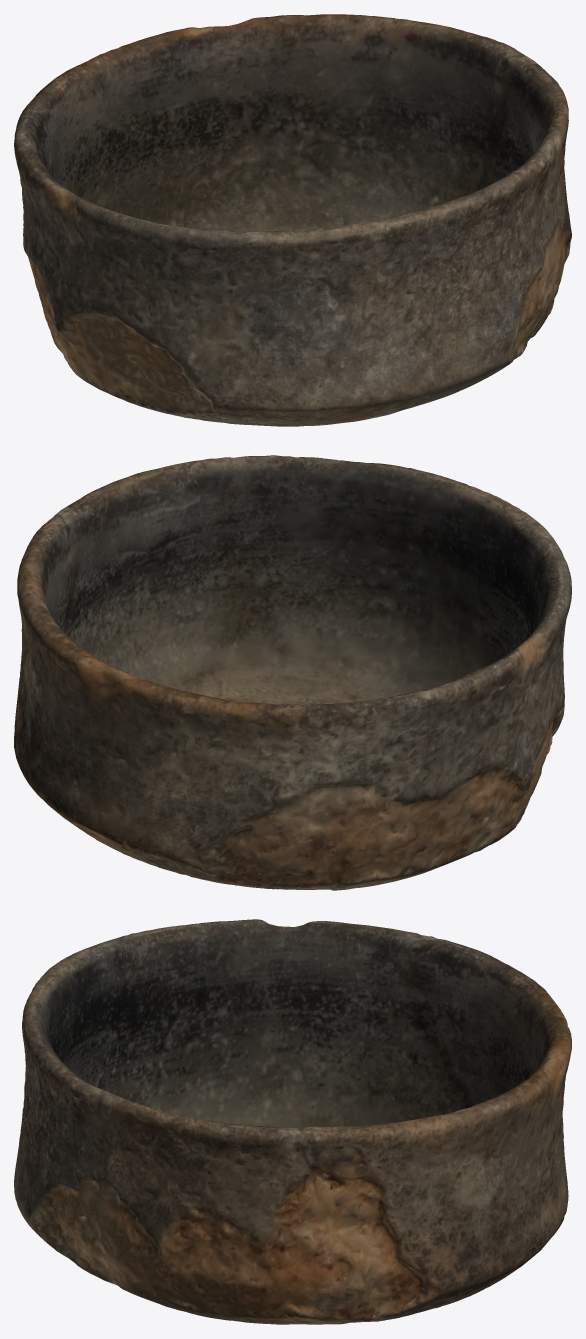
3 renders of one model, top to bottom at view 1: azimuth 30°, elevation 25°; view 2: azimuth 150°, elevation 25°; view 3: azimuth 270°, elevation 25°, orthographic.
Parts seen in each view (by area): view 1: Mesh_0.008; view 2: Mesh_0.008; view 3: Mesh_0.008.
Boxes of the visible parts, box(x1,y1,x2,y2) form: Mesh_0.008: box(14, 14, 571, 426); Mesh_0.008: box(14, 455, 571, 890); Mesh_0.008: box(14, 919, 571, 1324).
Size of the model in its own units: 0.1942 by 0.0982 by 0.1958.
1 material, 1 textured.
